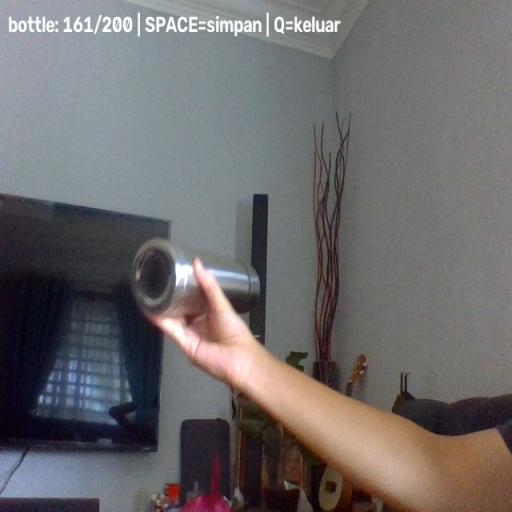Bottle: (130, 237, 260, 320)
